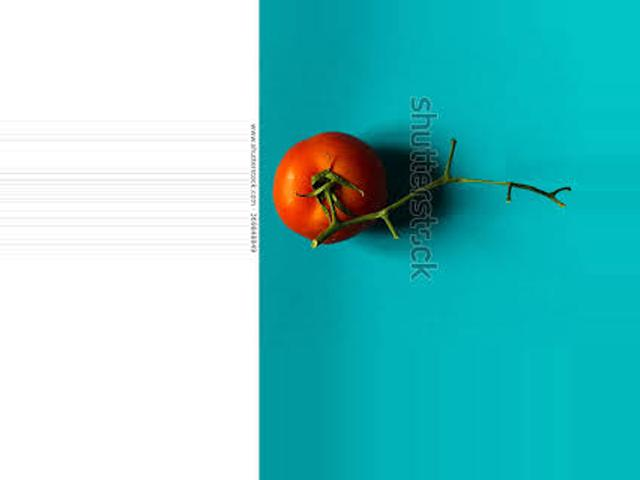tomato: (274, 132, 383, 245)
